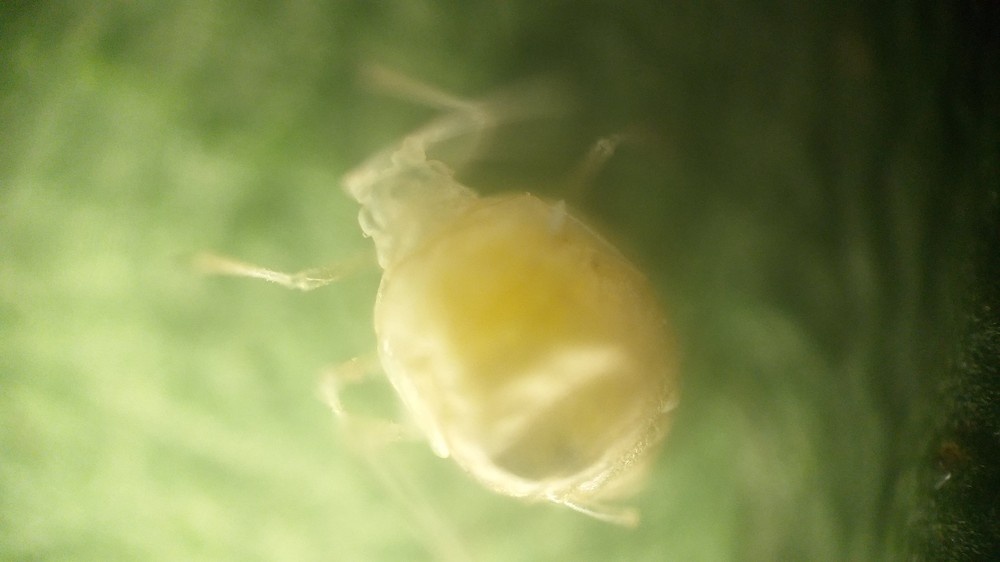Pulgon: (168, 53, 756, 550)
